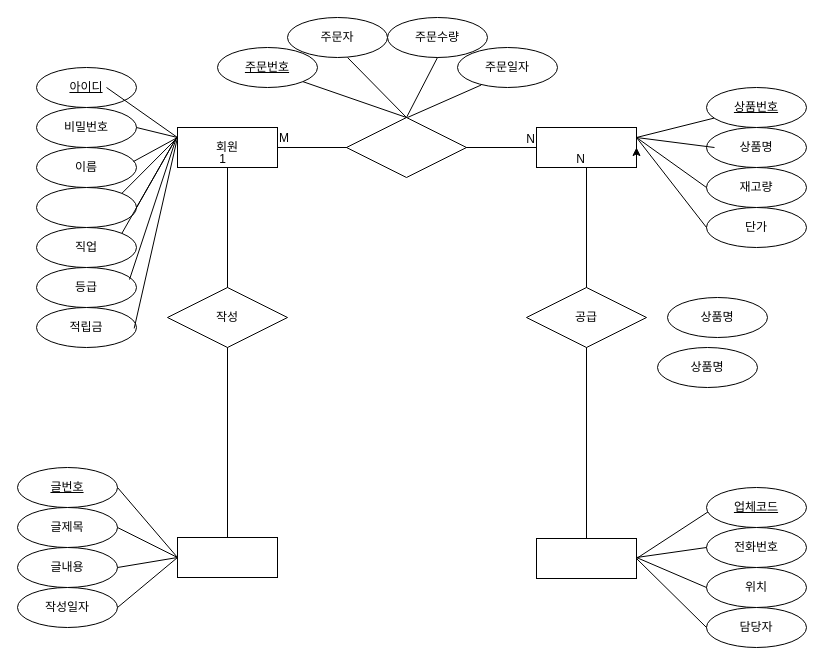
The diagram is 824 pixels wide and 665 high, and some of its shapes have lost their labels. The shapes that lost their labels are listed below. From the top down, each one's box as (x1, y1, x2, y2) in pixels, then its label:
(346, 116, 466, 178): 주문
(536, 126, 636, 168): 상품
(36, 186, 136, 228): 나이
(176, 536, 278, 578): 게시글
(536, 538, 636, 578): 제조업체
